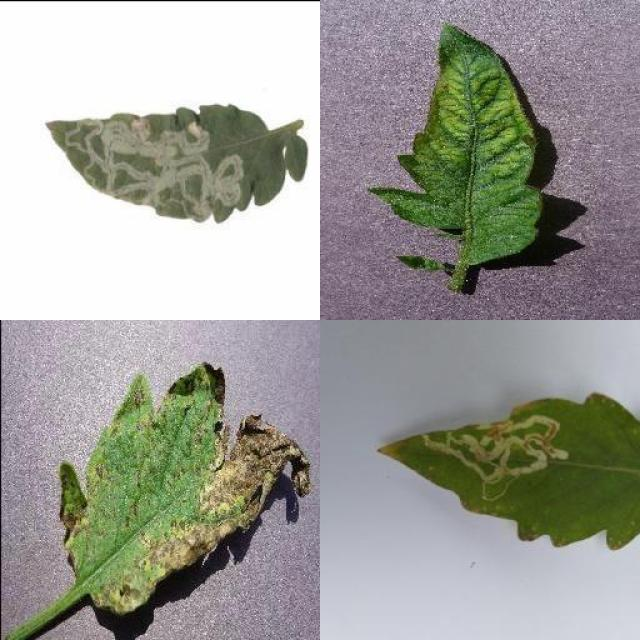Septoria: (59, 363, 311, 615)
